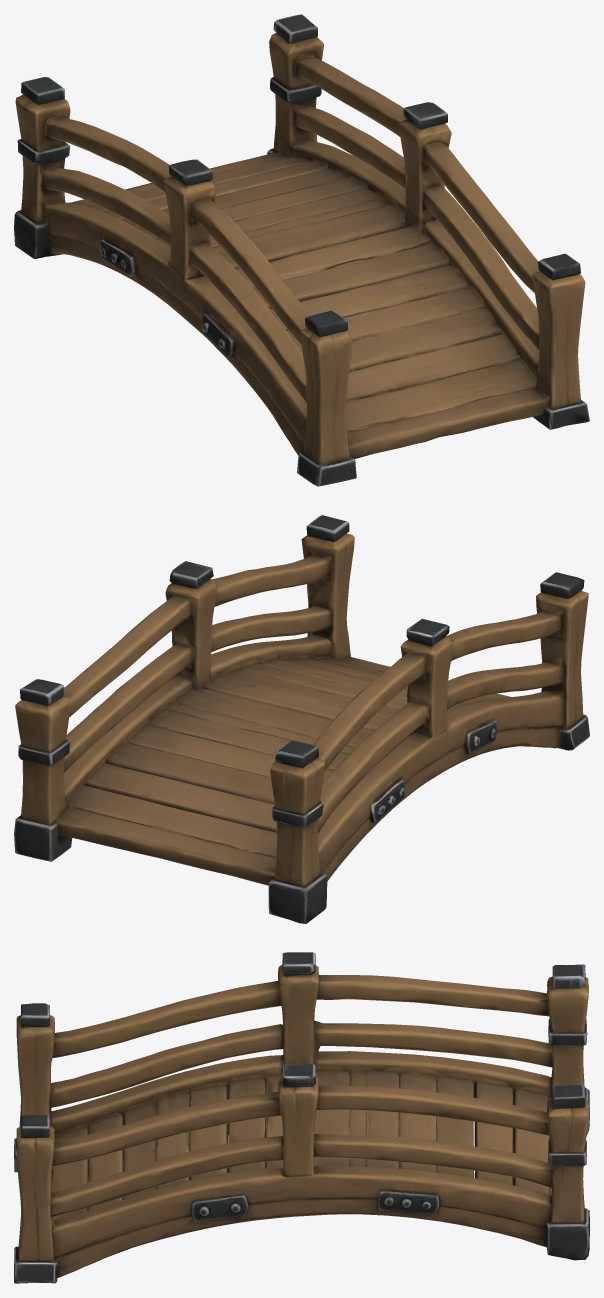
The model's file is puente.glb.
3 views of the same model, one above another, from view 1: azimuth 30°, elevation 25°; view 2: azimuth 150°, elevation 25°; view 3: azimuth 270°, elevation 25° (orthographic). The views are drawn at different scales.
Visible parts, largest first — view 1: tripo_node_bcab45ae-8ded-44bb-9d5d-a012f91463a7; view 2: tripo_node_bcab45ae-8ded-44bb-9d5d-a012f91463a7; view 3: tripo_node_bcab45ae-8ded-44bb-9d5d-a012f91463a7.
Part boxes in pixels (bbox=[...]): tripo_node_bcab45ae-8ded-44bb-9d5d-a012f91463a7: bbox=[14, 14, 589, 486]; tripo_node_bcab45ae-8ded-44bb-9d5d-a012f91463a7: bbox=[14, 515, 589, 923]; tripo_node_bcab45ae-8ded-44bb-9d5d-a012f91463a7: bbox=[14, 952, 589, 1283].
Size of the model in its own units: 0.5716 by 0.3925 by 1.
1 material, 1 textured.
